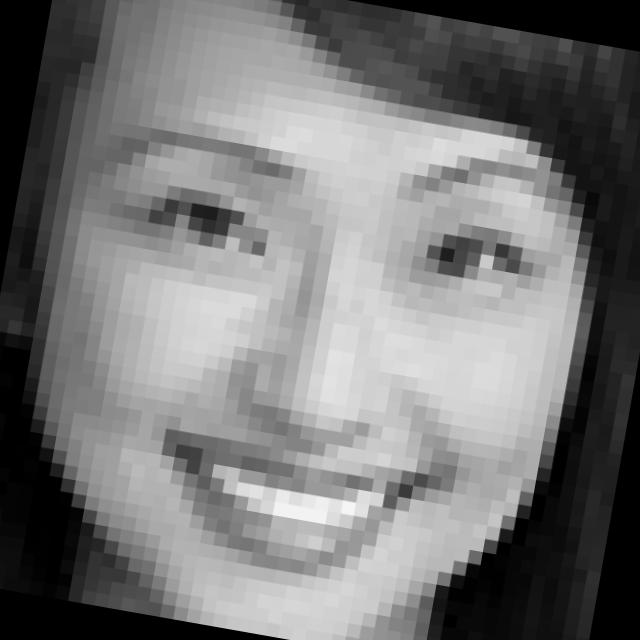happy: (26, 80, 568, 616)
